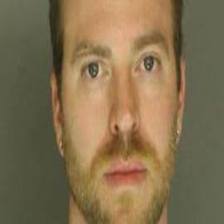no_mask: (62, 3, 175, 221)
